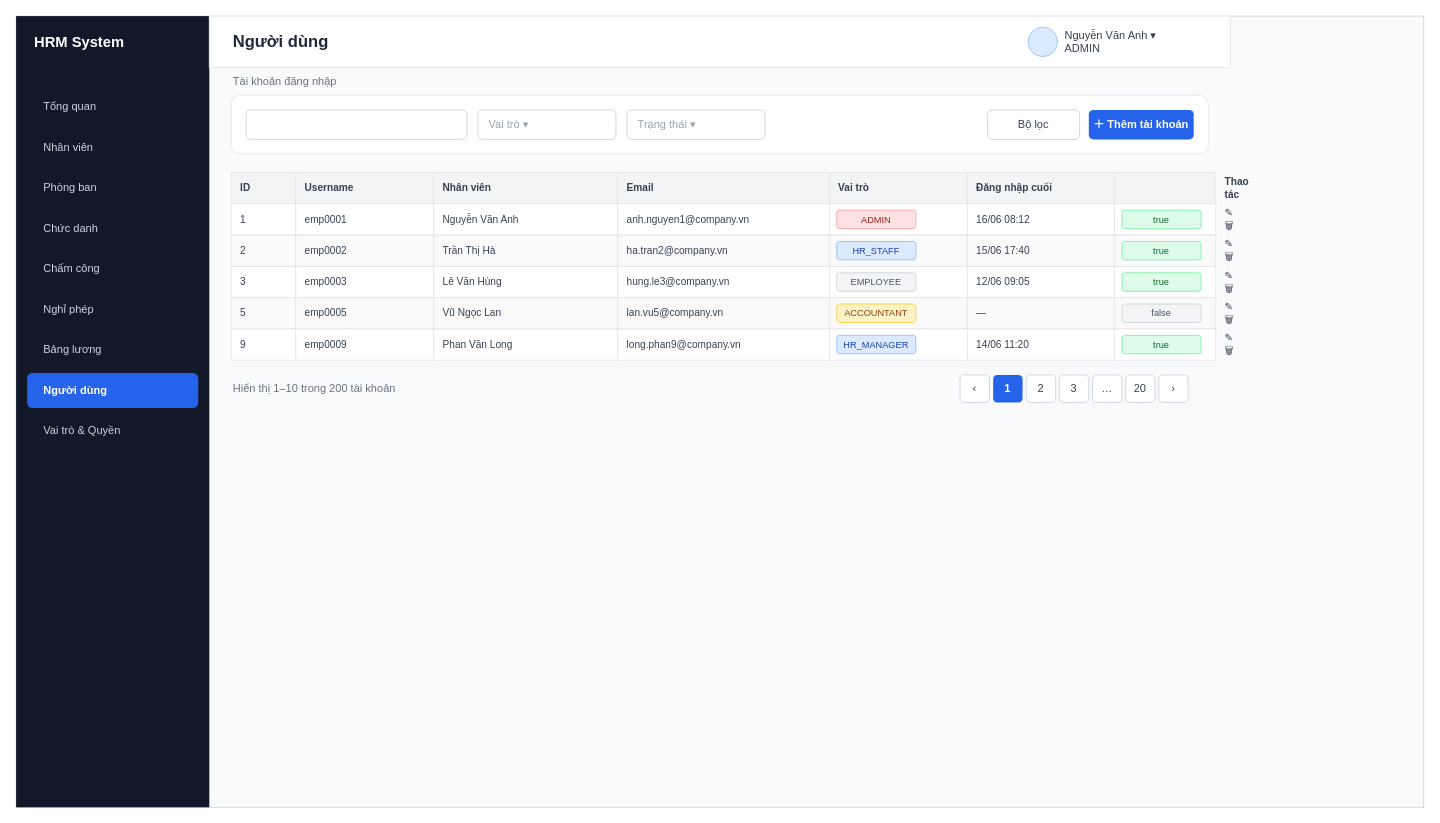
Image size: 1440x823. Some labels were removed from this diagram. Each missing label, with the box of its shape:
Kích hoạt: (1114, 172, 1216, 204)
NA: (1027, 26, 1058, 57)
🔎 Tìm kiếm (keyword)…: (245, 109, 467, 139)
